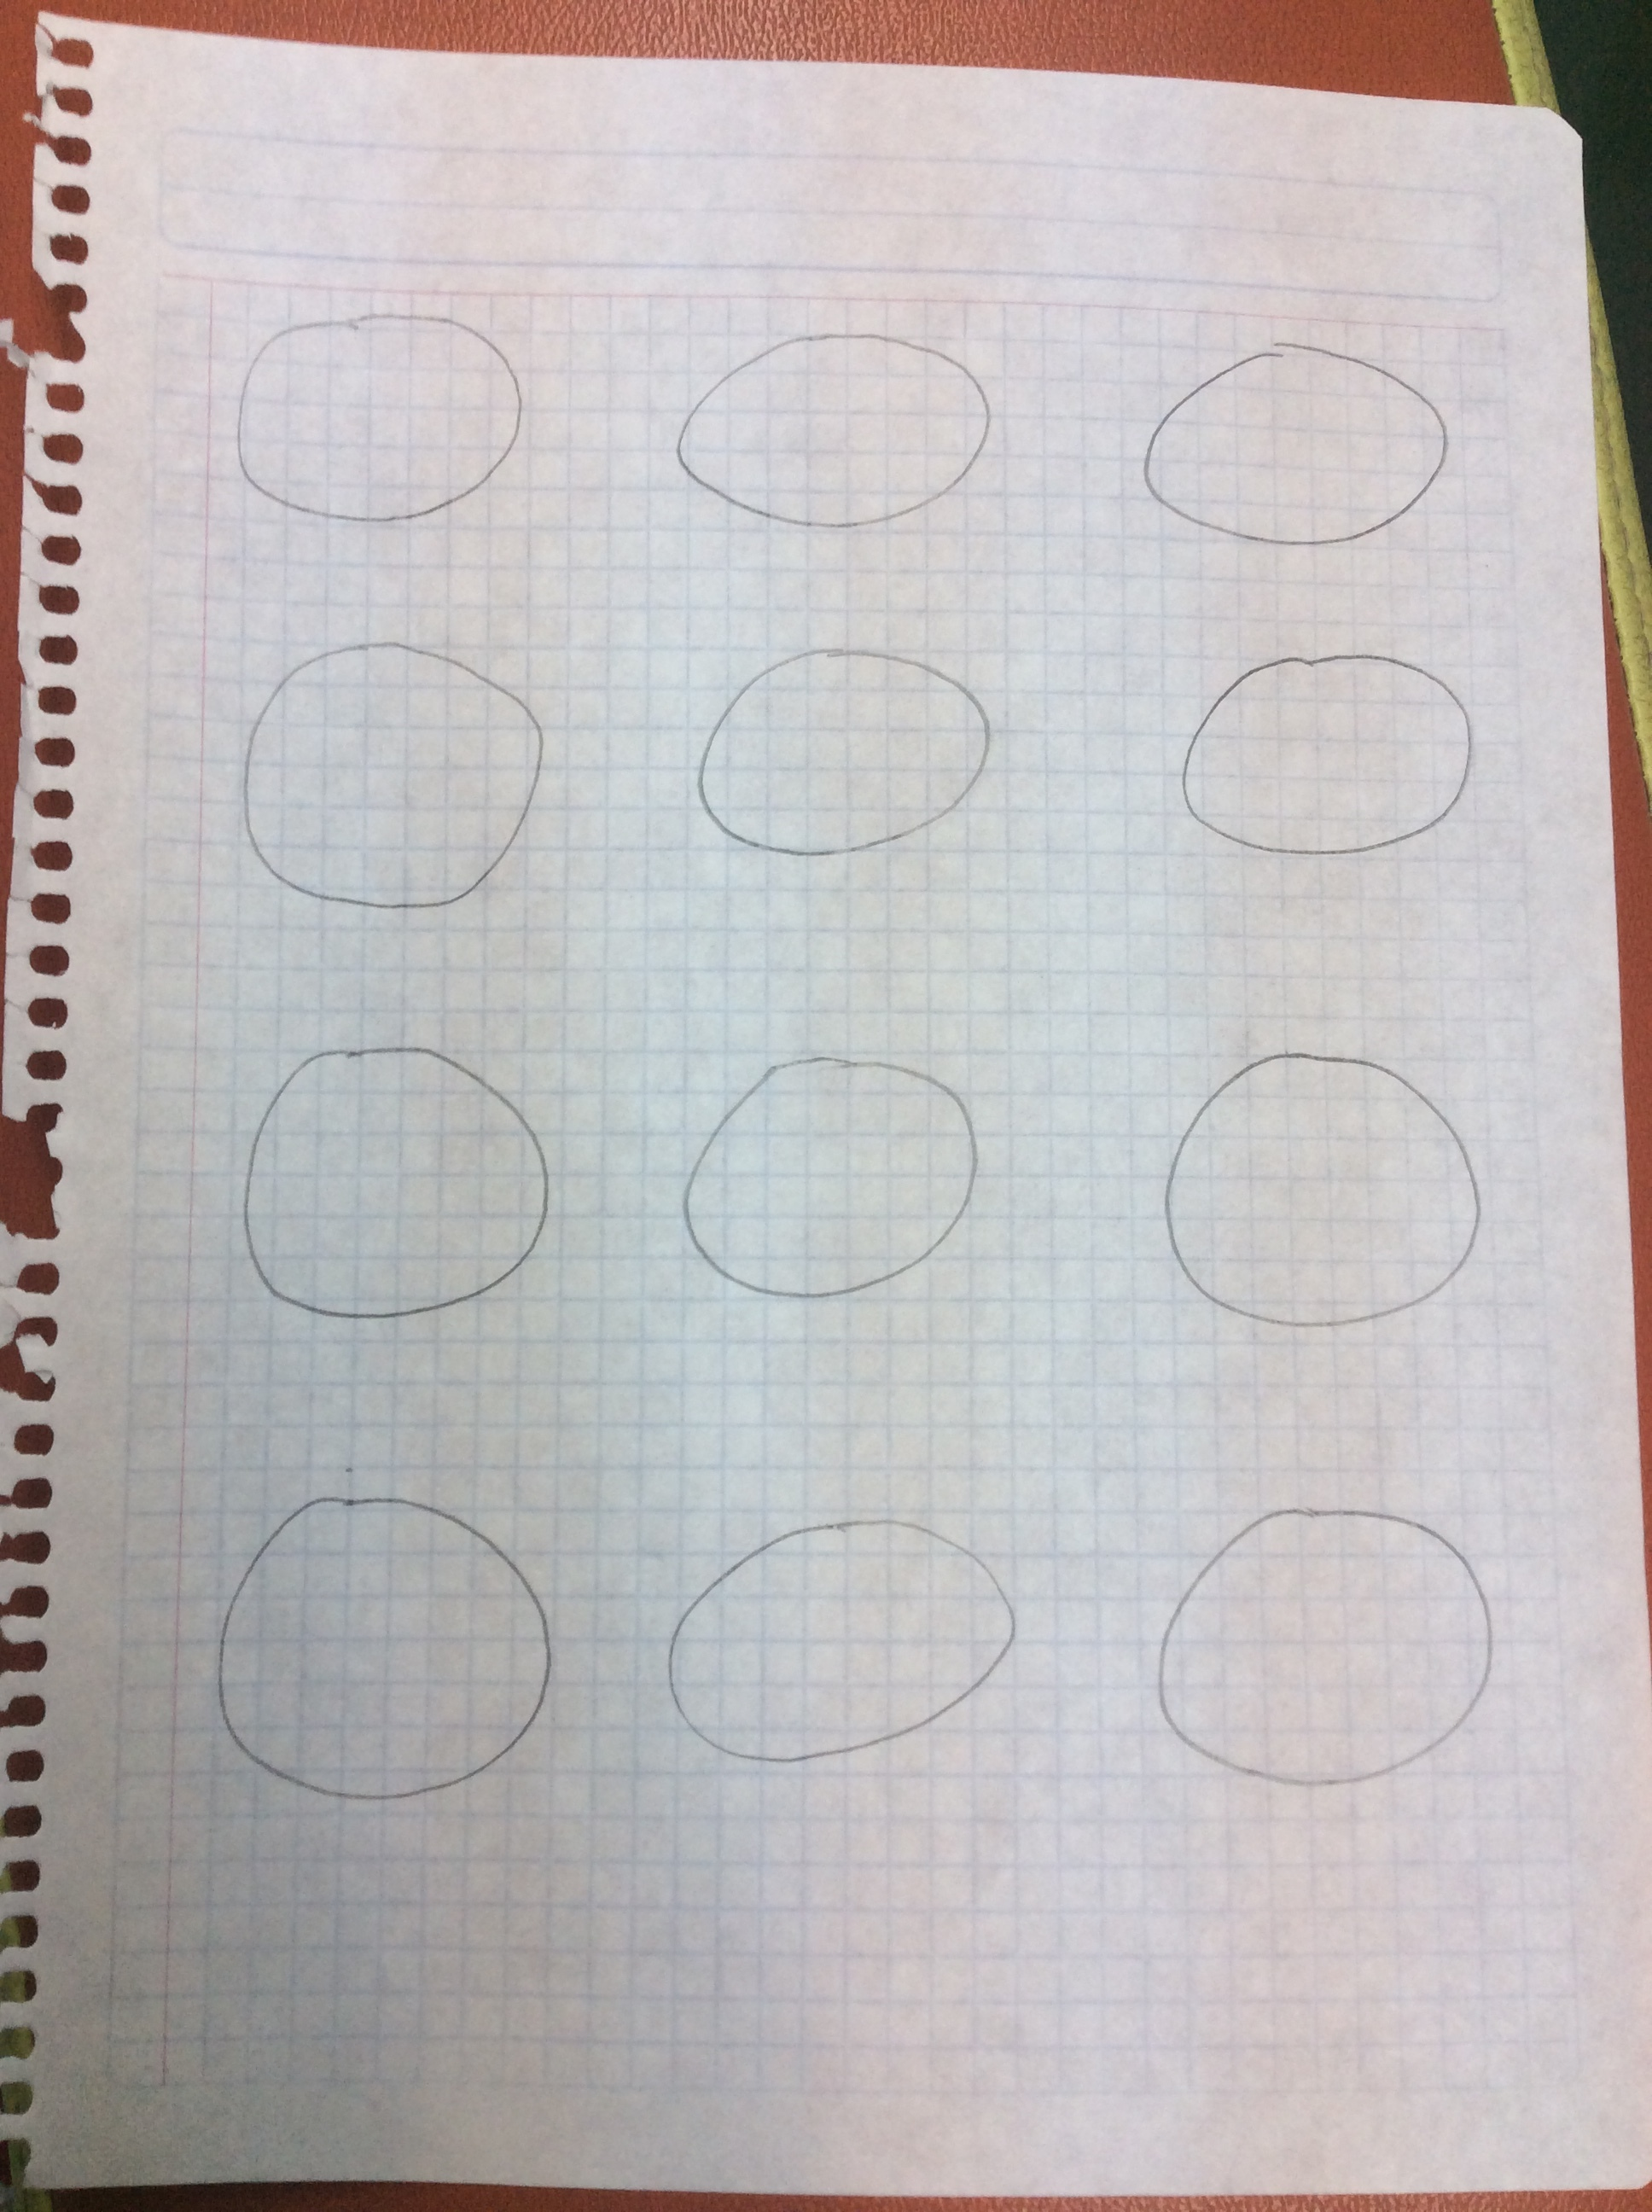start_end: (179, 1471, 566, 1827), (1142, 1492, 1520, 1810), (1131, 1041, 1503, 1345), (647, 1495, 1029, 1785), (213, 1031, 567, 1341), (206, 621, 562, 925), (644, 1034, 1005, 1320), (1149, 621, 1491, 888), (213, 279, 541, 553), (680, 625, 1015, 878), (1118, 328, 1459, 571), (651, 311, 1005, 543)
